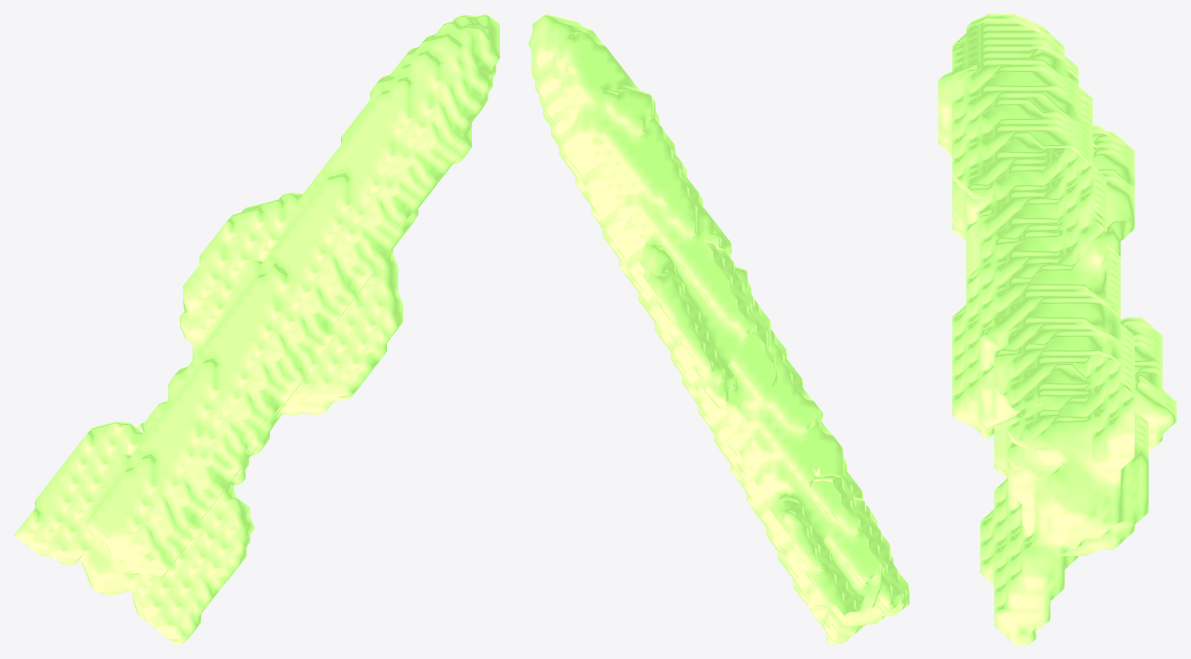
File: missile.glb
3 renders of one model, left to right at view 1: azimuth 30°, elevation 25°; view 2: azimuth 150°, elevation 25°; view 3: azimuth 270°, elevation 25°, orthographic. The views are drawn at different scales.
Parts seen in each view (by area): view 1: world; view 2: world; view 3: world.
Boxes of the visible parts, x1,y1,x2,y2 form: world: [14, 14, 499, 644]; world: [528, 14, 909, 644]; world: [938, 14, 1176, 644].
Bounding box in the file's own units: 0.8 × 1 × 0.2615.
